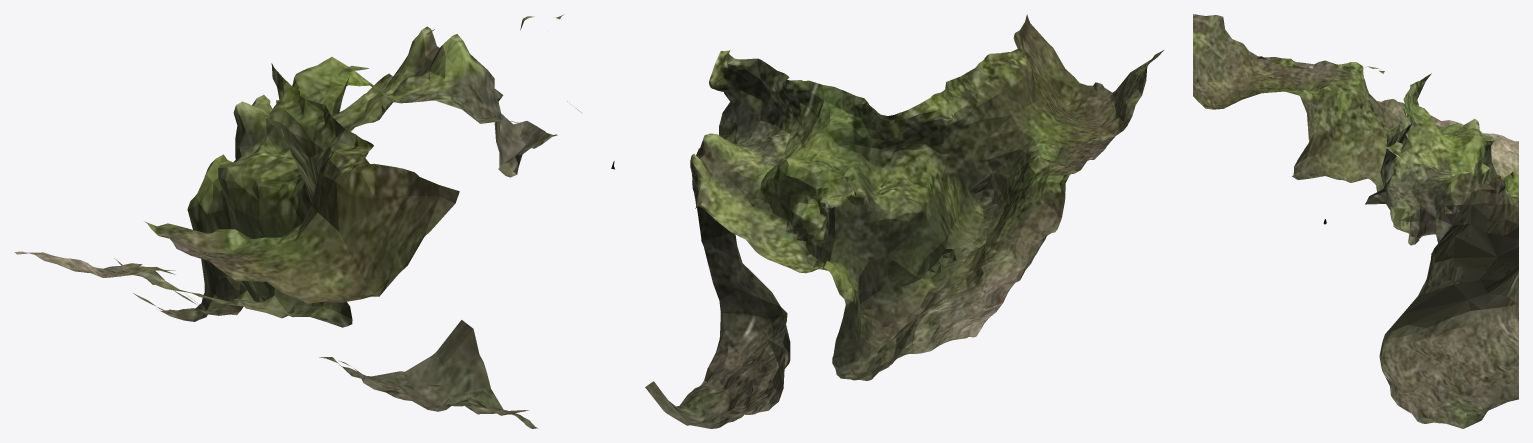
The picture shows the model from 3 angles, left to right: view 1: azimuth 30°, elevation 25°; view 2: azimuth 150°, elevation 25°; view 3: azimuth 270°, elevation 25°; orthographic projection. The views are drawn at different scales.
Size of the model in its own units: 5.9 by 5.57 by 5.9.
4 materials, 4 textured.
